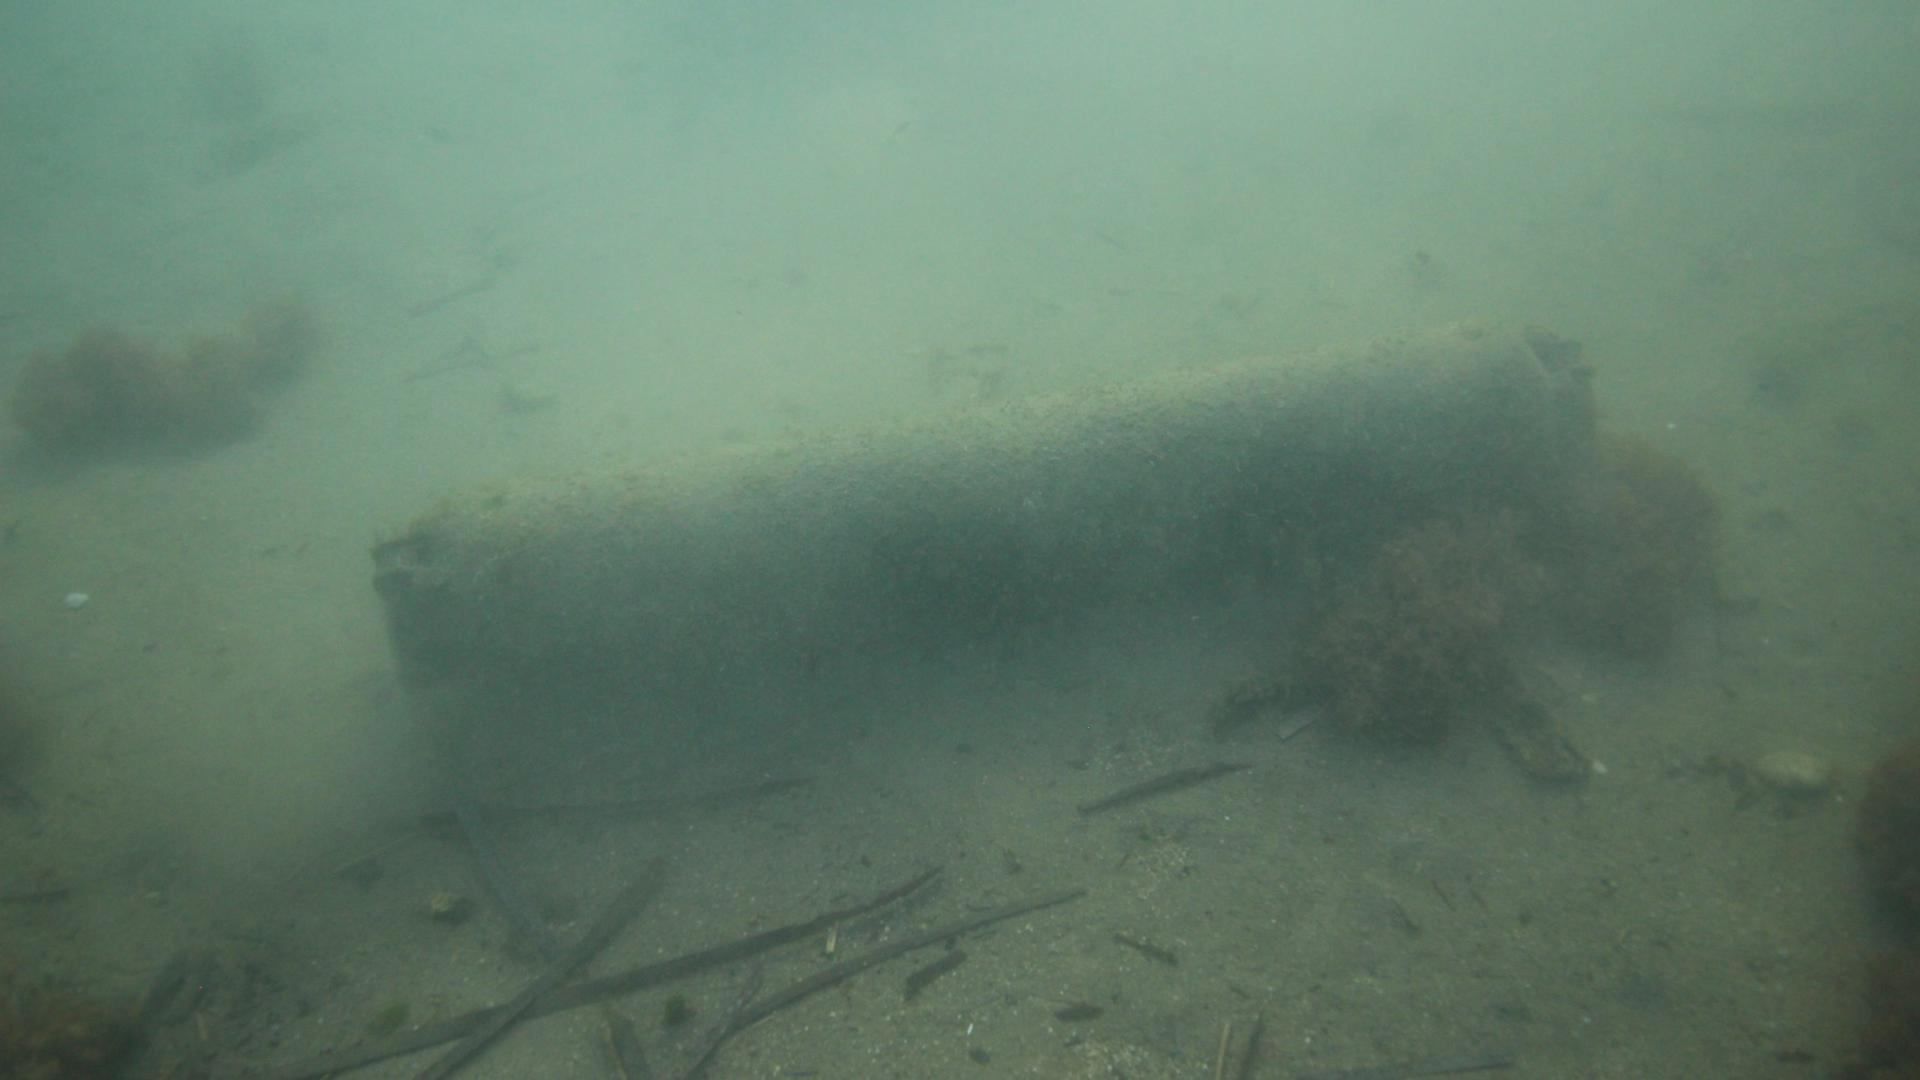eel fish trap: (376, 314, 1600, 742)
